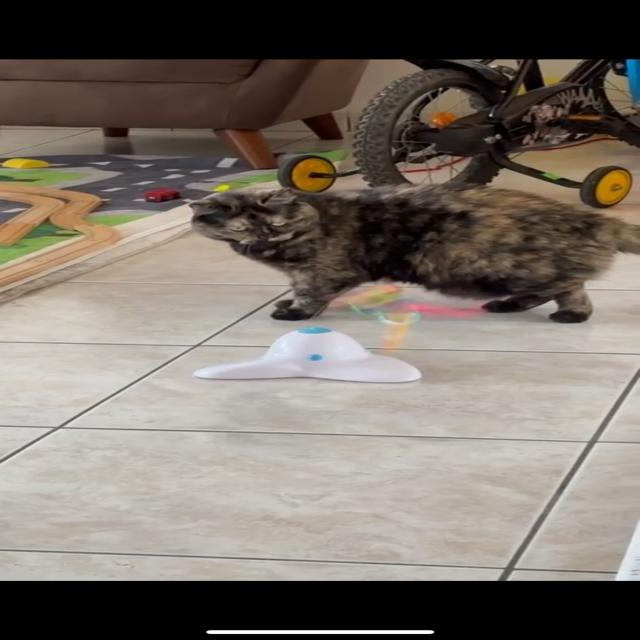authorized: (186, 182, 639, 323)
